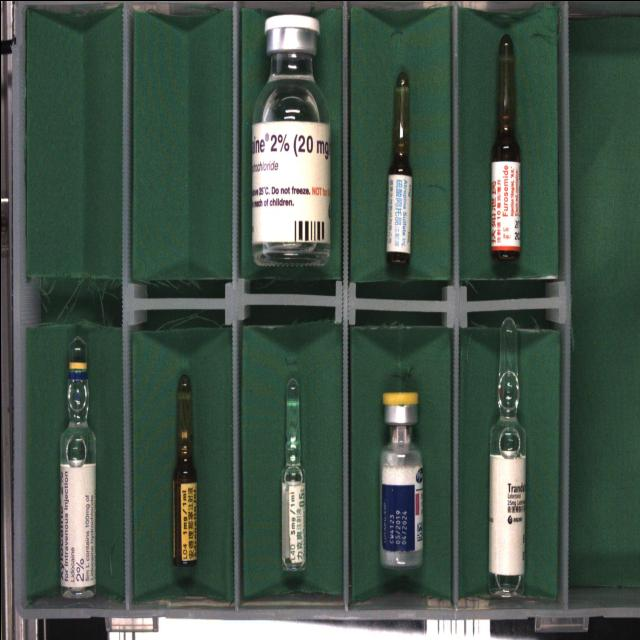Vials: (251, 13, 329, 265), (379, 391, 421, 566)
